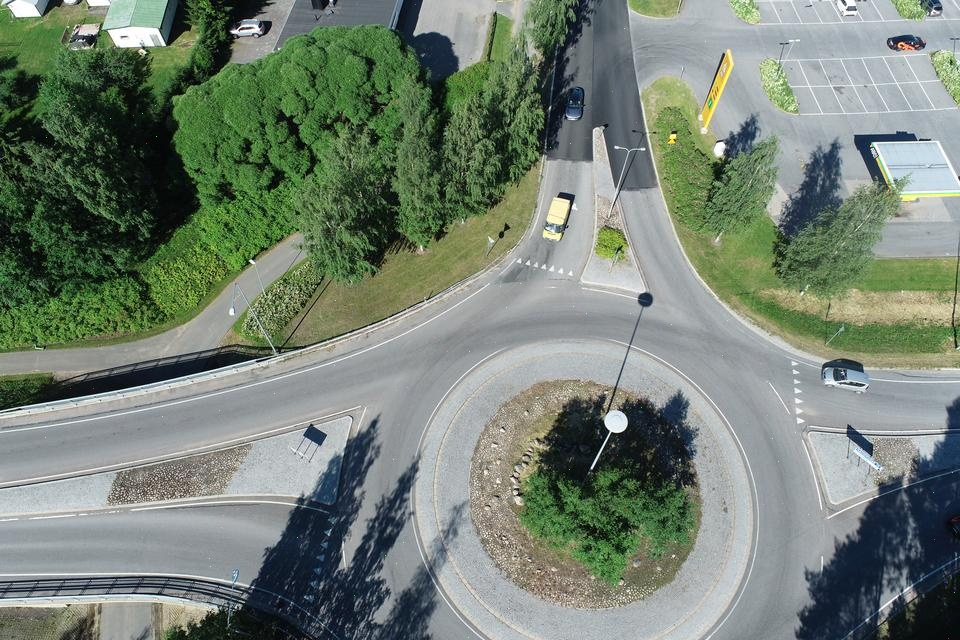roundabout: (315, 259, 871, 640)
